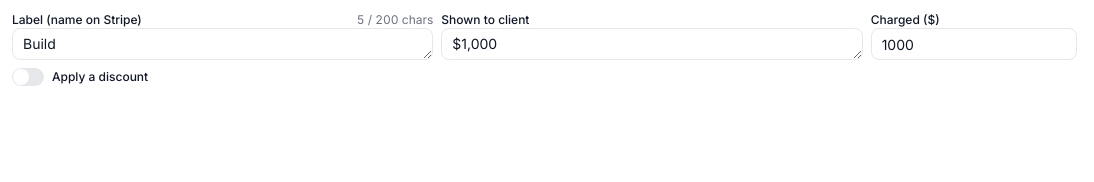
Test: MoneyFields discount inputs (RSL-33) › warns inline when a discount is enabled with a blank reason (RSL-38)
The width and height of the screenshot is (1094, 182).
Click the switch at (28, 77), box [12,68,44,86]
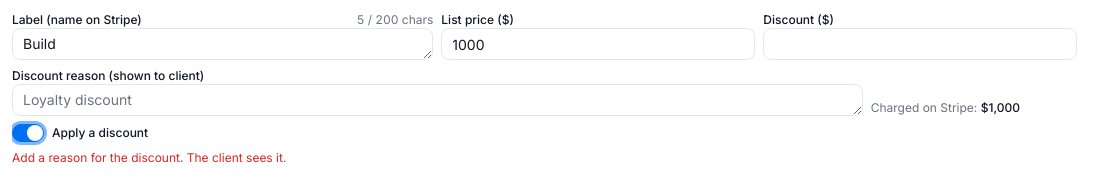
Expected: the text "Add a reason for the discount. The client sees it." is shown, [12,150,286,165]
